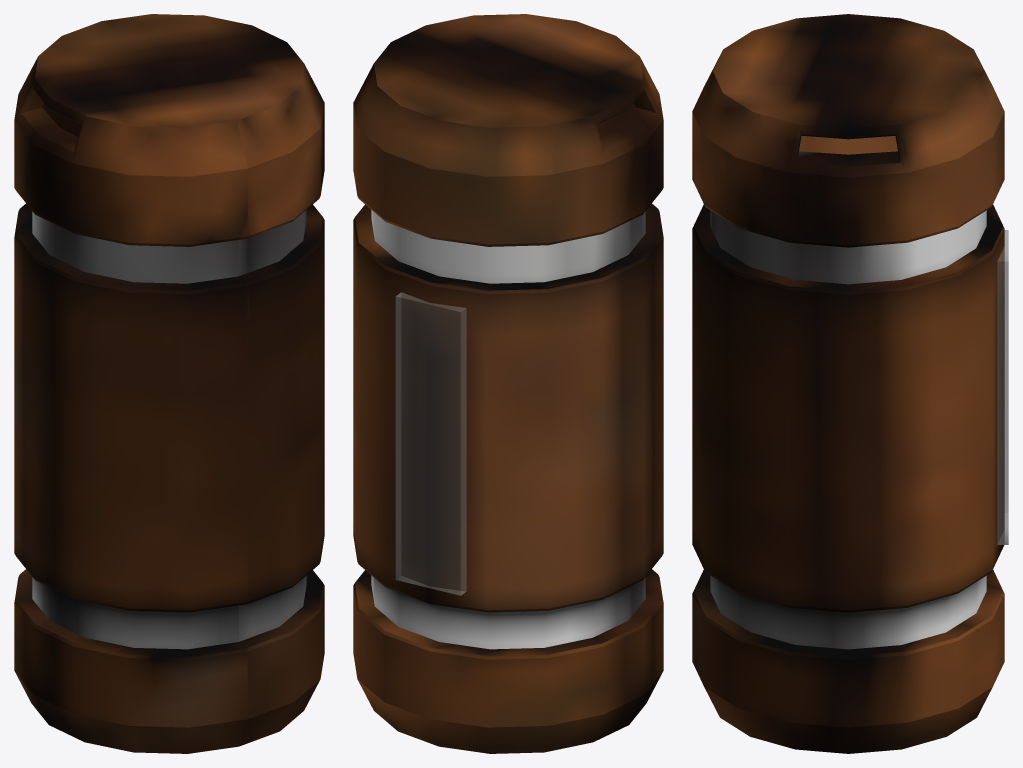
The model's file is bateria.glb.
The picture shows the model from 3 angles, left to right: view 1: azimuth 30°, elevation 25°; view 2: azimuth 150°, elevation 25°; view 3: azimuth 270°, elevation 25°; orthographic projection.
Visible parts, largest first — view 1: bateria; view 2: bateria; view 3: bateria.
Boxes of the visible parts, x1,y1,x2,y2 form: bateria: (14, 14, 324, 753); bateria: (353, 14, 663, 753); bateria: (692, 14, 1008, 753).
Bounding box in the file's own units: 0.3367 × 0.7417 × 0.341.
1 material, 1 textured.
